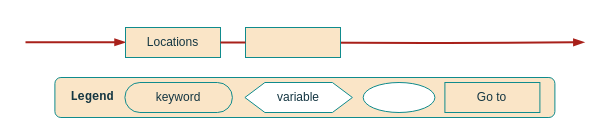
The diagram is 610 pixels wide and 135 high, and some of its shapes have lost their labels. The shapes that lost their labels are listed below. From the top down, each one's centre as x and y in pixels, then its label:
the point at 292,42: Components
the point at 398,97: String
